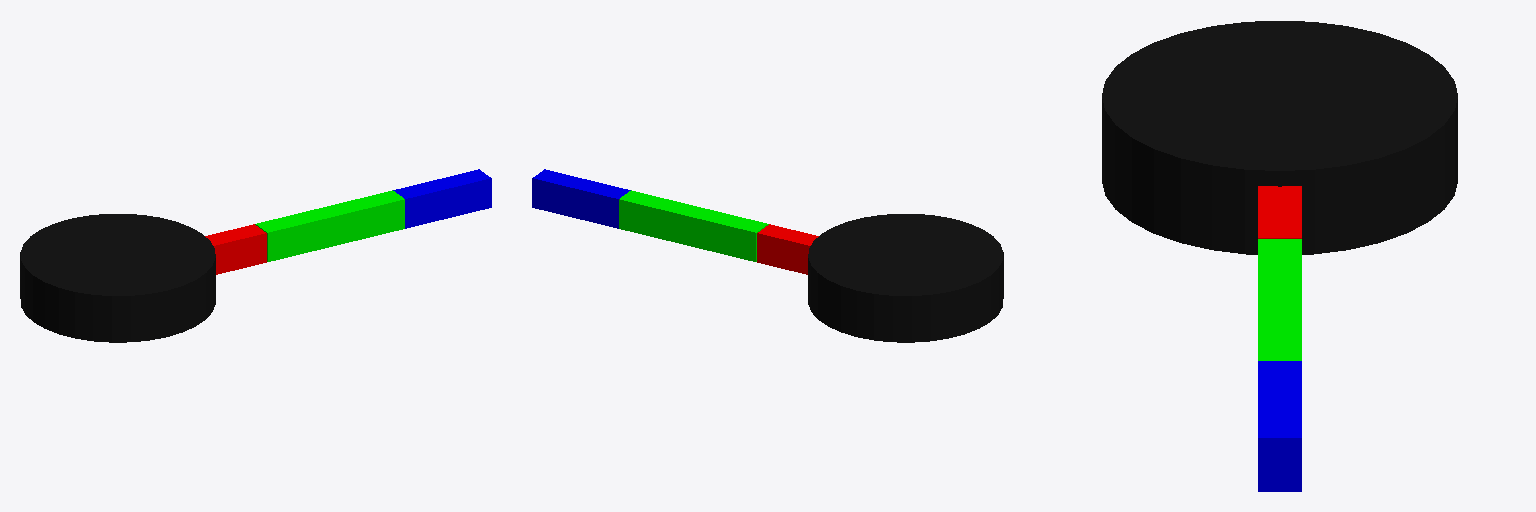
The robot description file, URDF, robot "robot":
<?xml version="1.0"?> 
 <robot name="robot"> 
     <link name="base_link"> 
           <visual>
        <origin xyz="0.0 0.0 0.0" rpy="0 0 0" />
        <geometry>
            <cylinder radius="0.12" length="0.063"/>
        </geometry>
        <material name="grey">
            <color rgba="0.1 0.1 0.1 1.0" />
        </material>
    </visual>
     </link> 
 
    <link name="link_1">
        <visual>
            <origin xyz="0.04 0 0" rpy="0 0 0" />
            <geometry>
                <box size="0.083 0.03 0.04" />
            </geometry>
            <material name="red">
                <color rgba="1 0.0 0.0 1.0"/>
            </material>
        </visual>
        

    </link>
     
    <joint name="link_1_joint" type="revolute">
        <parent link="base_link"/>
        <child link="link_1"/>
        <axis xyz="0 0 1"/>
        <limit lower="-3.14159" upper="3.14159" velocity="50.0" 
               effort="1000.0"/>
        <origin xyz="0.12 0 0" rpy="0 0 0"/>
        
    </joint>


     <link name="link_2">
        <visual>
            <origin xyz="0.0975 0 0" rpy="0 0 0" />
            <geometry>
                <box size="0.195 0.03 0.04" />
            </geometry>
            <material name="green">
                <color rgba="0.0 1.0 0.0 1.0" />
            </material>
        </visual>
         
    </link>


    <joint name="link_2_joint" type="revolute">
        <parent link="link_1"/>
        <child link="link_2"/>
        <axis xyz="0 1 0"/>
        <limit lower="-3.14159" upper="3.14159" velocity="50.0" 
               effort="1000.0"/>
        <origin xyz="0.083 0 0" rpy="0 0 0"/>
    </joint>


     <link name="link_3">
        <visual>
            <origin xyz="0.061 0.0 0.0" rpy="0 0 0" />
            <geometry>
                <box size="0.122 0.03 0.04" />
            </geometry>
            <material name="blue">
              <color rgba="0.0 0.0 1.0 1.0" />
            </material>
        </visual>
         
   

    </link>

    <joint name="link_3_joint" type="revolute">
        <parent link="link_2"/>
        <child link="link_3"/>
        <axis xyz="0 1 0"/>
        <limit lower="-3.14159" upper="3.14159" velocity="50.0" 
               effort="1000.0"/>
        <origin xyz="0.195 0 0" rpy="0 0 0"/>
    </joint>

     
 </robot>

--- Render facts (derived) ---
The picture shows the robot from 3 angles, left to right: view 1: azimuth 30°, elevation 25°; view 2: azimuth 150°, elevation 25°; view 3: azimuth 270°, elevation 25°; orthographic projection.
Model robot with 4 links and 3 joints (3 revolute), rooted at base_link, posed all joints at 0.
Links seen in each view (by area): view 1: base_link, link_2, link_3, link_1; view 2: base_link, link_2, link_3, link_1; view 3: base_link, link_3, link_2, link_1.
Link boxes in pixels (x1,y1,x2,y2): base_link: [20, 214, 215, 342]; link_2: [255, 190, 404, 261]; link_3: [393, 169, 491, 228]; link_1: [205, 224, 266, 274]; base_link: [808, 214, 1003, 342]; link_2: [619, 190, 768, 261]; link_3: [532, 169, 630, 228]; link_1: [757, 224, 818, 274]; base_link: [1102, 21, 1457, 254]; link_3: [1258, 361, 1301, 491]; link_2: [1258, 239, 1301, 360]; link_1: [1258, 186, 1301, 238].
Bounding box of the posed robot: 0.64 × 0.24 × 0.063 m (x, y, z).
Geometry: primitives only (box / cylinder / sphere), no mesh files.